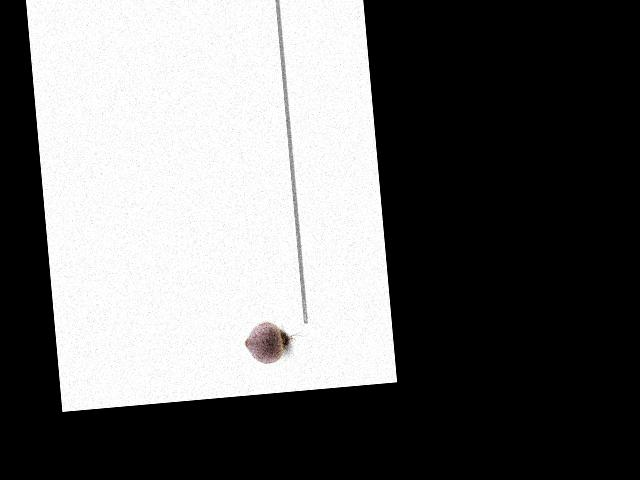beet: (242, 317, 309, 365)
